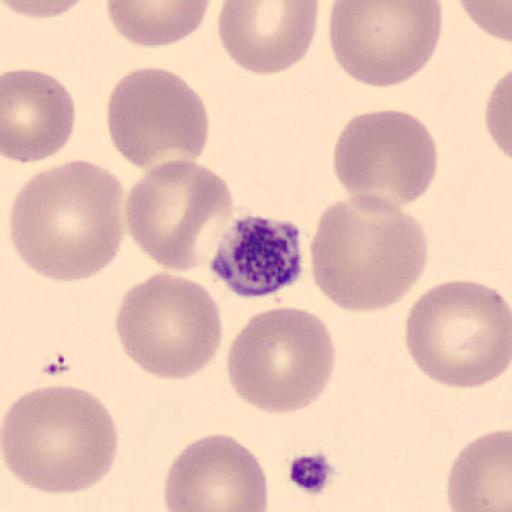Platelet: (206, 213, 306, 300), (284, 449, 340, 497)
RBC: (307, 192, 430, 314), (9, 157, 125, 283), (0, 383, 119, 496), (124, 156, 234, 274), (114, 270, 223, 382), (404, 278, 512, 391), (226, 306, 337, 415), (104, 66, 210, 172), (332, 108, 440, 212), (327, 0, 442, 89), (163, 431, 271, 512), (217, 0, 321, 76), (1, 67, 77, 166), (445, 429, 512, 512), (106, 0, 214, 48), (483, 66, 512, 164), (456, 0, 512, 43), (6, 0, 91, 20)
